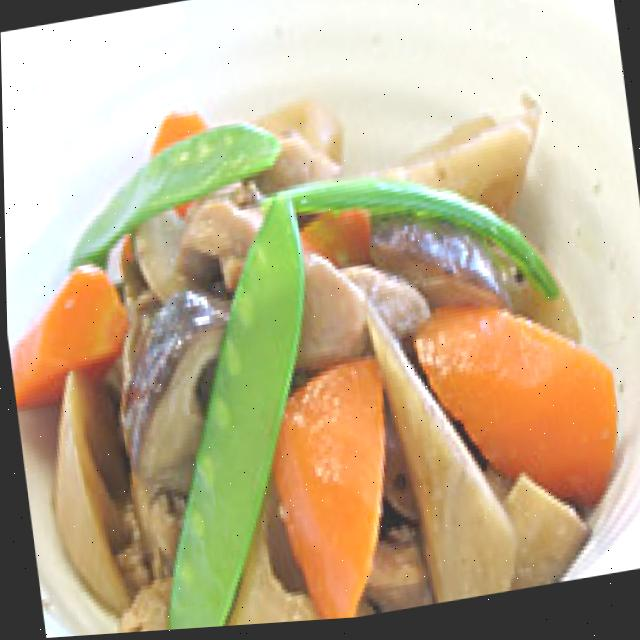鸡肉料理 含炸鸡: (1, 30, 640, 640)
